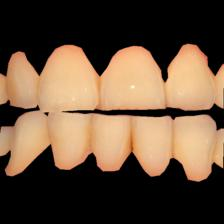cavity: (83, 136, 96, 153), (95, 74, 106, 90), (4, 79, 13, 98), (128, 134, 137, 152)
tooth: (101, 47, 165, 112), (40, 46, 100, 112), (166, 44, 216, 113), (173, 117, 222, 182), (130, 116, 177, 176), (6, 113, 48, 177), (53, 112, 97, 169), (91, 116, 134, 173), (6, 52, 39, 108)
